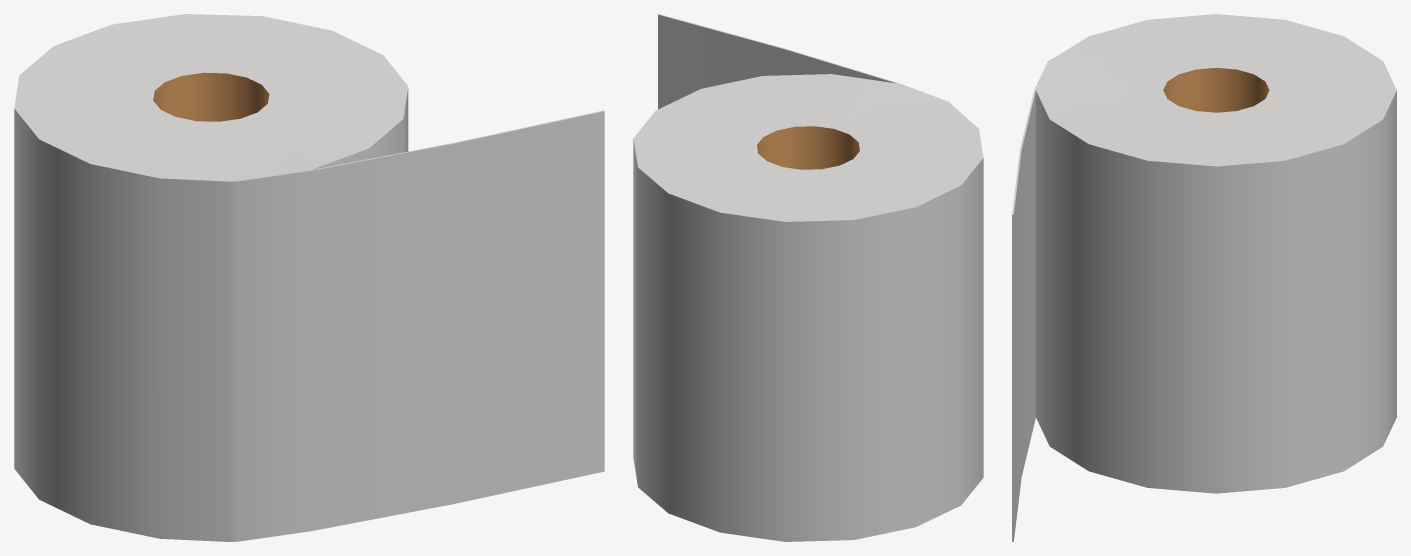
Rendered from toiletpaper.fbx.
The picture shows the model from 3 angles, left to right: view 1: azimuth 30°, elevation 25°; view 2: azimuth 150°, elevation 25°; view 3: azimuth 270°, elevation 25°; orthographic projection. The views are drawn at different scales.
Parts seen in each view (by area): view 1: Cylinder.008; view 2: Cylinder.008; view 3: Cylinder.008.
Part boxes in pixels (left/top/right/bottom): Cylinder.008: left=14, top=14, right=604, bottom=541; Cylinder.008: left=633, top=14, right=983, bottom=541; Cylinder.008: left=1012, top=14, right=1396, bottom=541.
Size of the model in its own units: 263 by 200 by 213.
